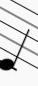LC: (0, 2, 32, 74)
